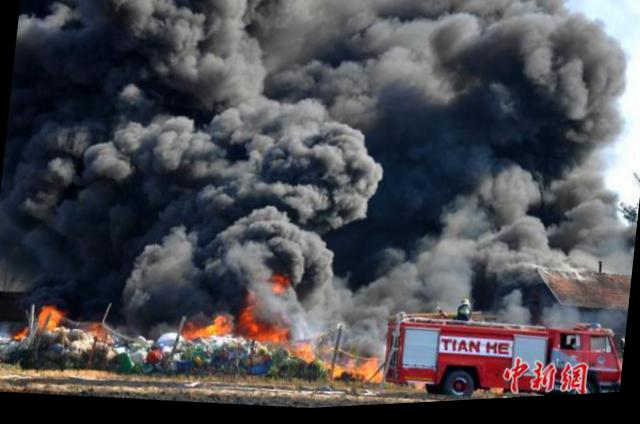fire: (182, 314, 222, 341), (355, 359, 382, 387), (254, 323, 286, 345), (236, 305, 254, 338), (38, 304, 59, 327), (292, 341, 316, 361), (269, 274, 287, 295)
